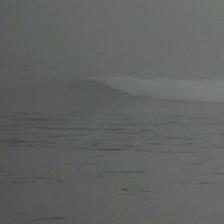surfer: (122, 69, 135, 77)
